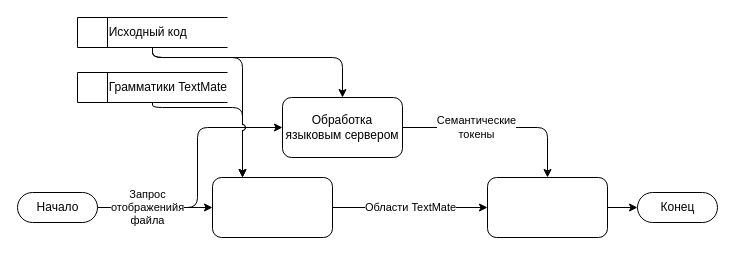
The diagram is 735 pixels wide and 255 high, and some of its shapes have lost their labels. The centre of each missing label's shape, as x and y in pixels:
Отображение: [547,207]
Применение грамматик TextMate: [272,207]
